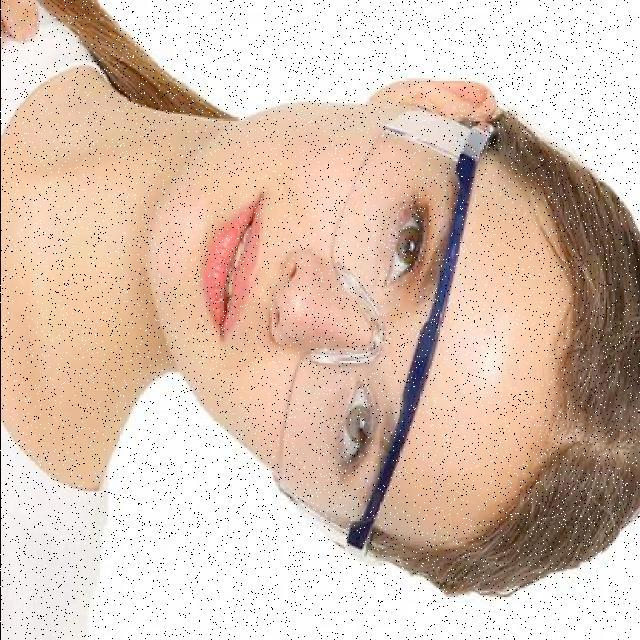Goggles: (261, 105, 517, 563)
